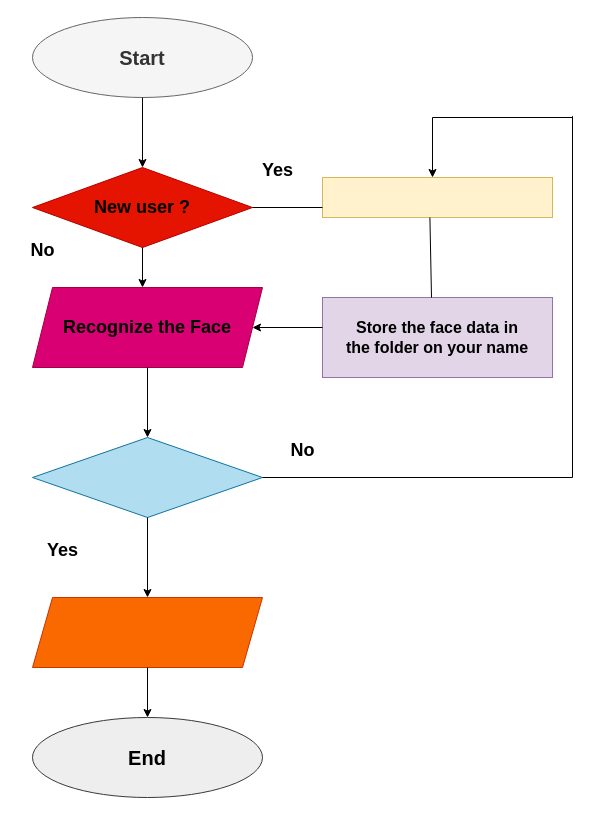
Some shapes in this 591 by 815 pixel diagram are drawn without their labels. Here are the shapes that lost their labels. From the top down, the box of each, then its label:
(322, 176, 552, 218): Give your photograph
(32, 436, 262, 518): Face Recognized
(32, 596, 262, 668): Stored in CSV file with Registration Number and Date Time of Entry
